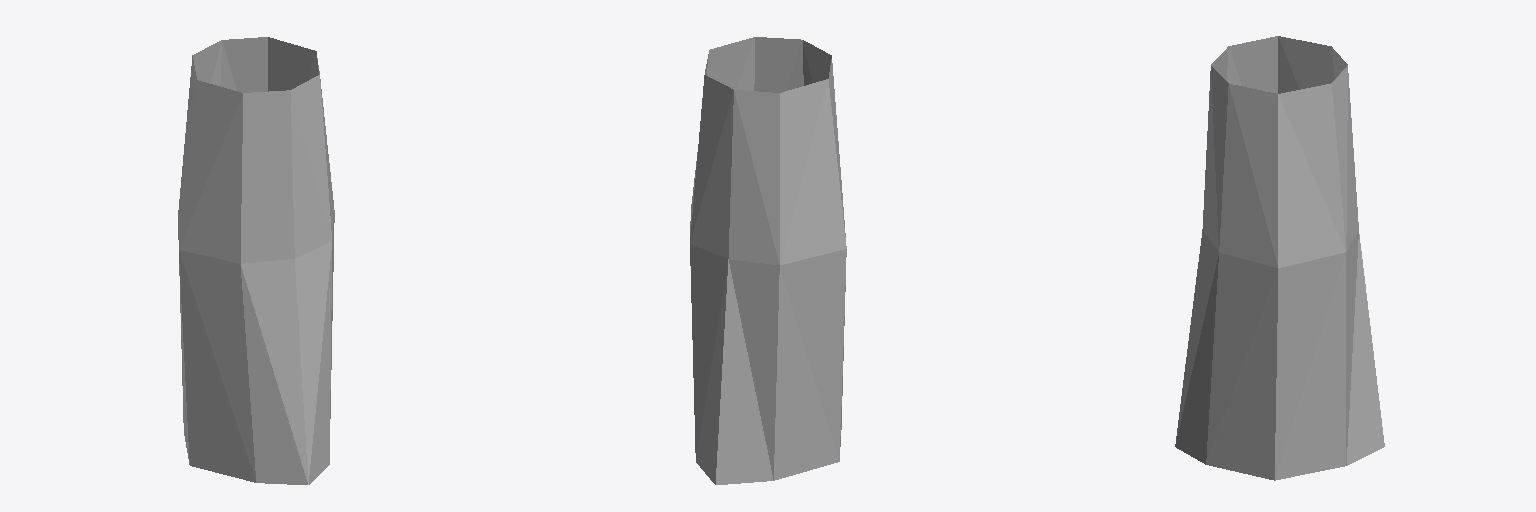
File: queue_4.obj
3 views of the same model, side by side, from view 1: azimuth 30°, elevation 25°; view 2: azimuth 150°, elevation 25°; view 3: azimuth 270°, elevation 25° (orthographic).
Parts seen in each view (by area): view 1: queue4_Wolf.006; view 2: queue4_Wolf.006; view 3: queue4_Wolf.006.
Part boxes in pixels (bbox=[...]): queue4_Wolf.006: bbox=[178, 37, 334, 484]; queue4_Wolf.006: bbox=[690, 37, 846, 484]; queue4_Wolf.006: bbox=[1175, 36, 1384, 480].
Size of the model in its own units: 8.77 by 20.53 by 10.22.